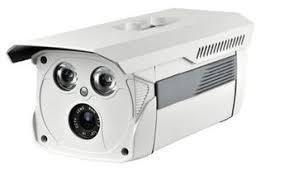tutu: (5, 5, 263, 164)
